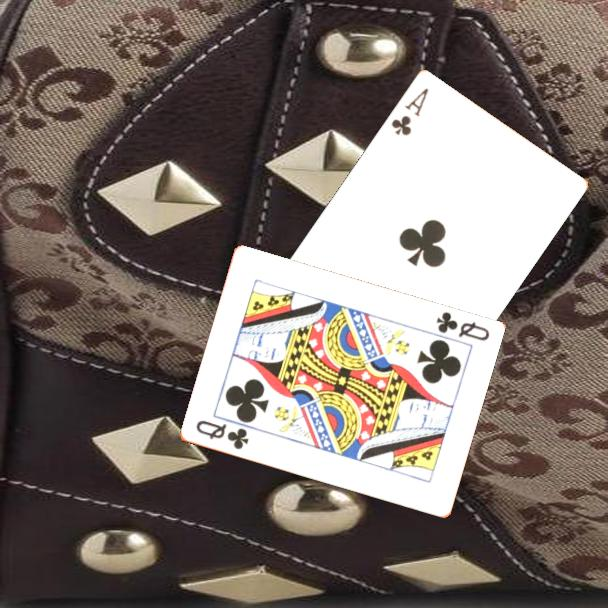c01: (387, 84, 431, 138)
c12: (432, 308, 492, 344), (192, 417, 251, 453)
